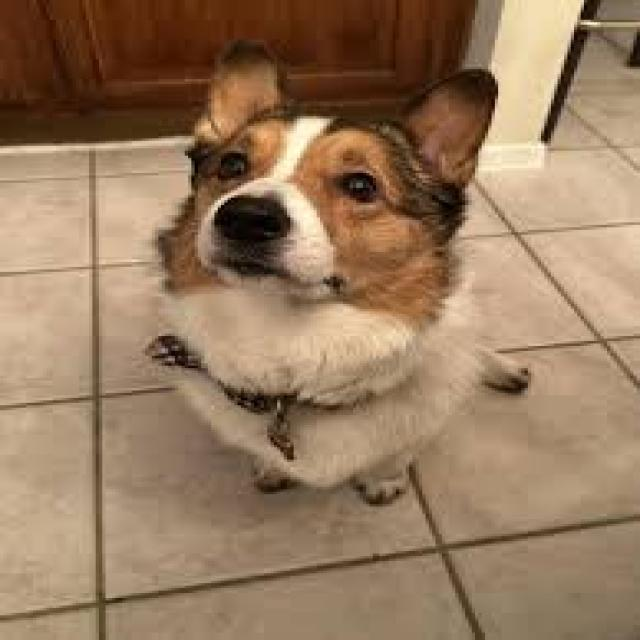CORGI: (148, 31, 550, 524)
